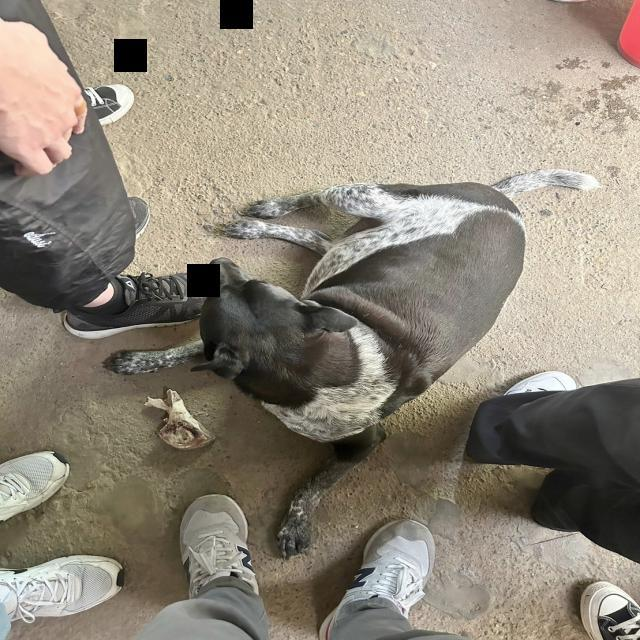adult_dog: (98, 168, 603, 558)
